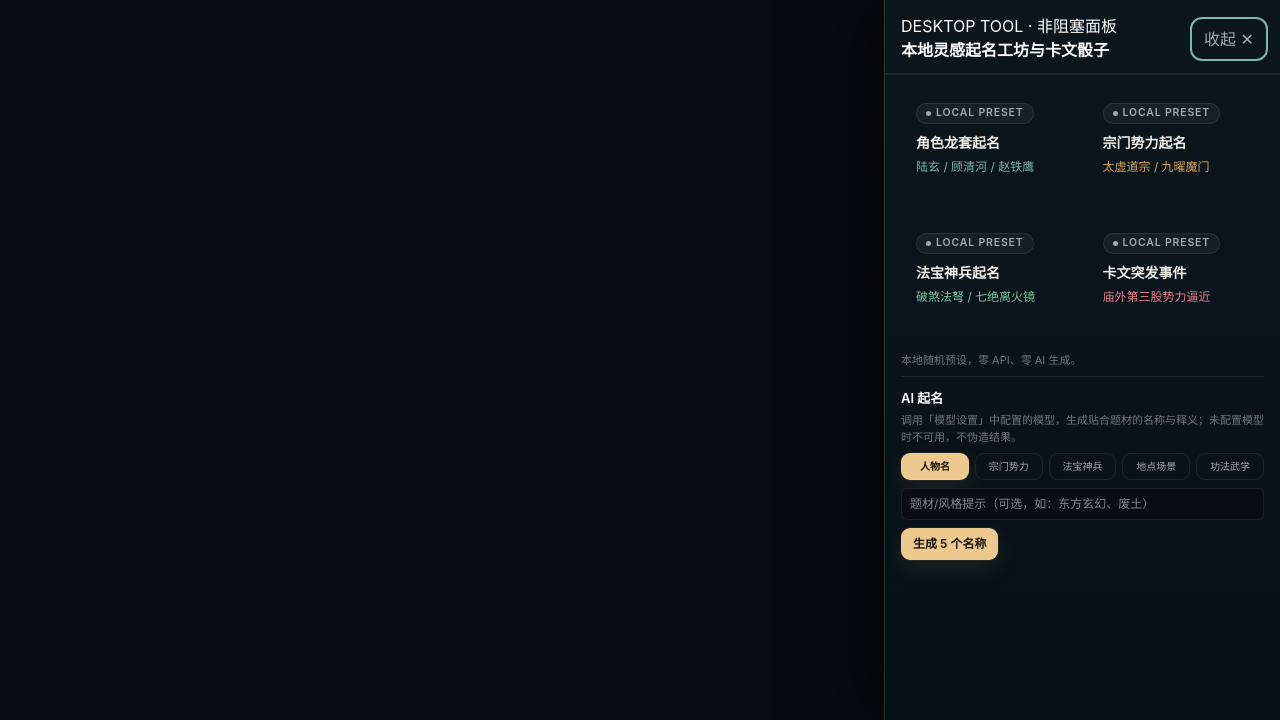
Test case: DesktopToolModals · AI 起名（.scratch/mozhou-mvp/issues/22-openwrite-parity-memo-naming.md） › inspiration Sheet 渲染本地预设区与 AI 起名区；生成成功显示名称释义
Expected: the element with test id "naming-ai-section" is shown, top-left (901, 376), bottom-right (1264, 560)
Expected: the text "本地随机预设，零 API、零 AI 生成。" is shown, top-left (901, 353), bottom-right (1081, 367)
Type "东方玄幻" into the field with test id "naming-hint" at (1082, 504), box top-left (901, 488), bottom-right (1264, 520)
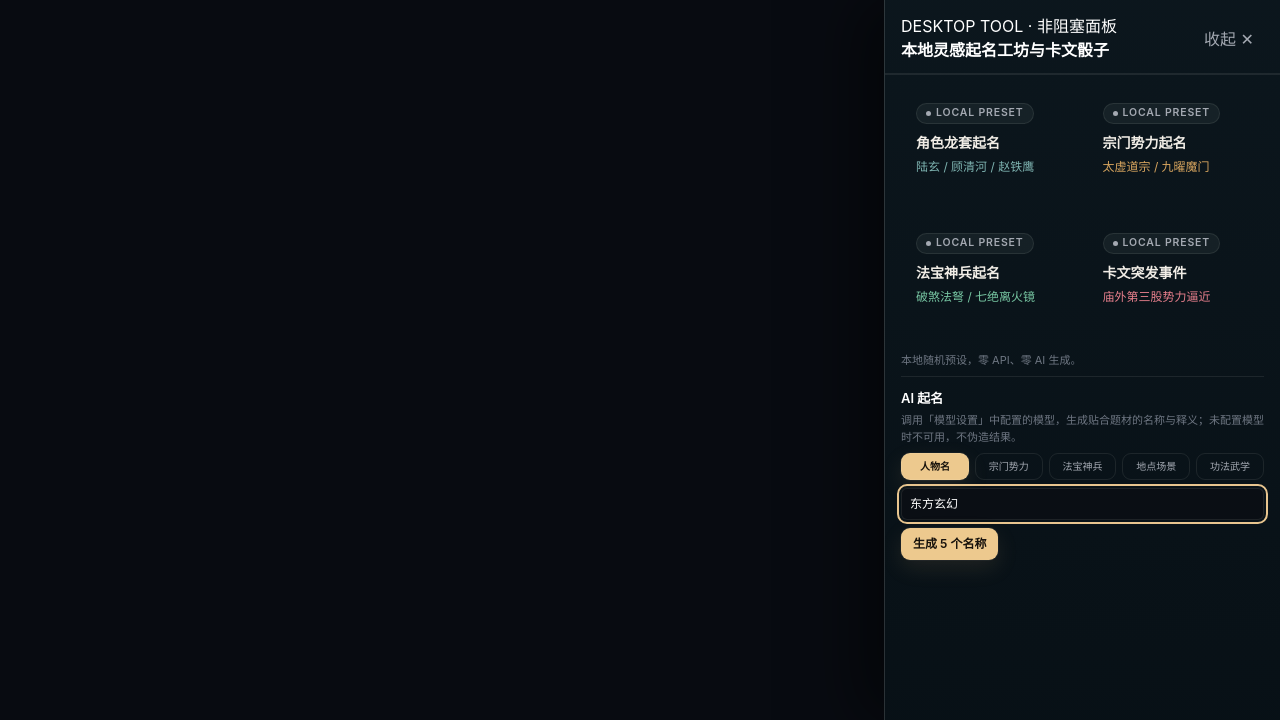
Click the button with test id "naming-generate" at (950, 544), box top-left (901, 528), bottom-right (998, 560)
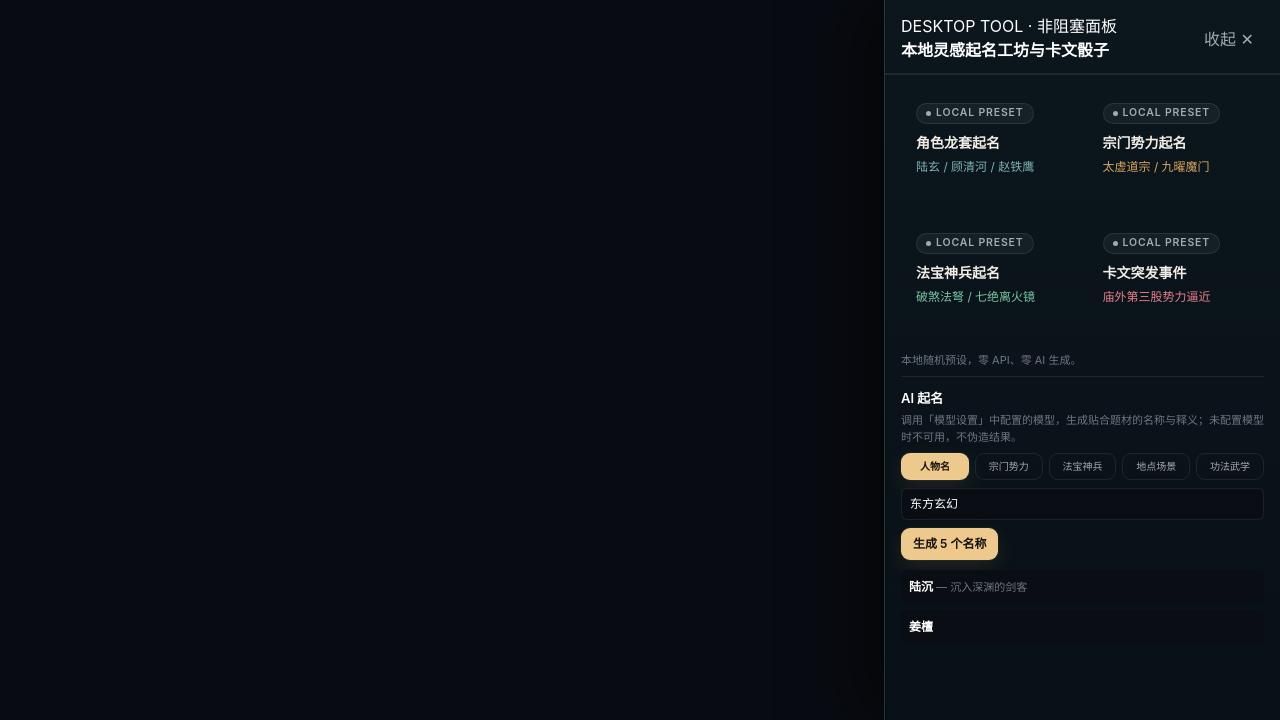
Expected: the element with test id "naming-results" is shown, top-left (901, 570), bottom-right (1264, 644)
Expected: the element with test id "naming-results" shows "陆沉", top-left (909, 579), bottom-right (933, 594)
Expected: the element with test id "naming-results" shows "沉入深渊的剑客", top-left (950, 580), bottom-right (1027, 594)
